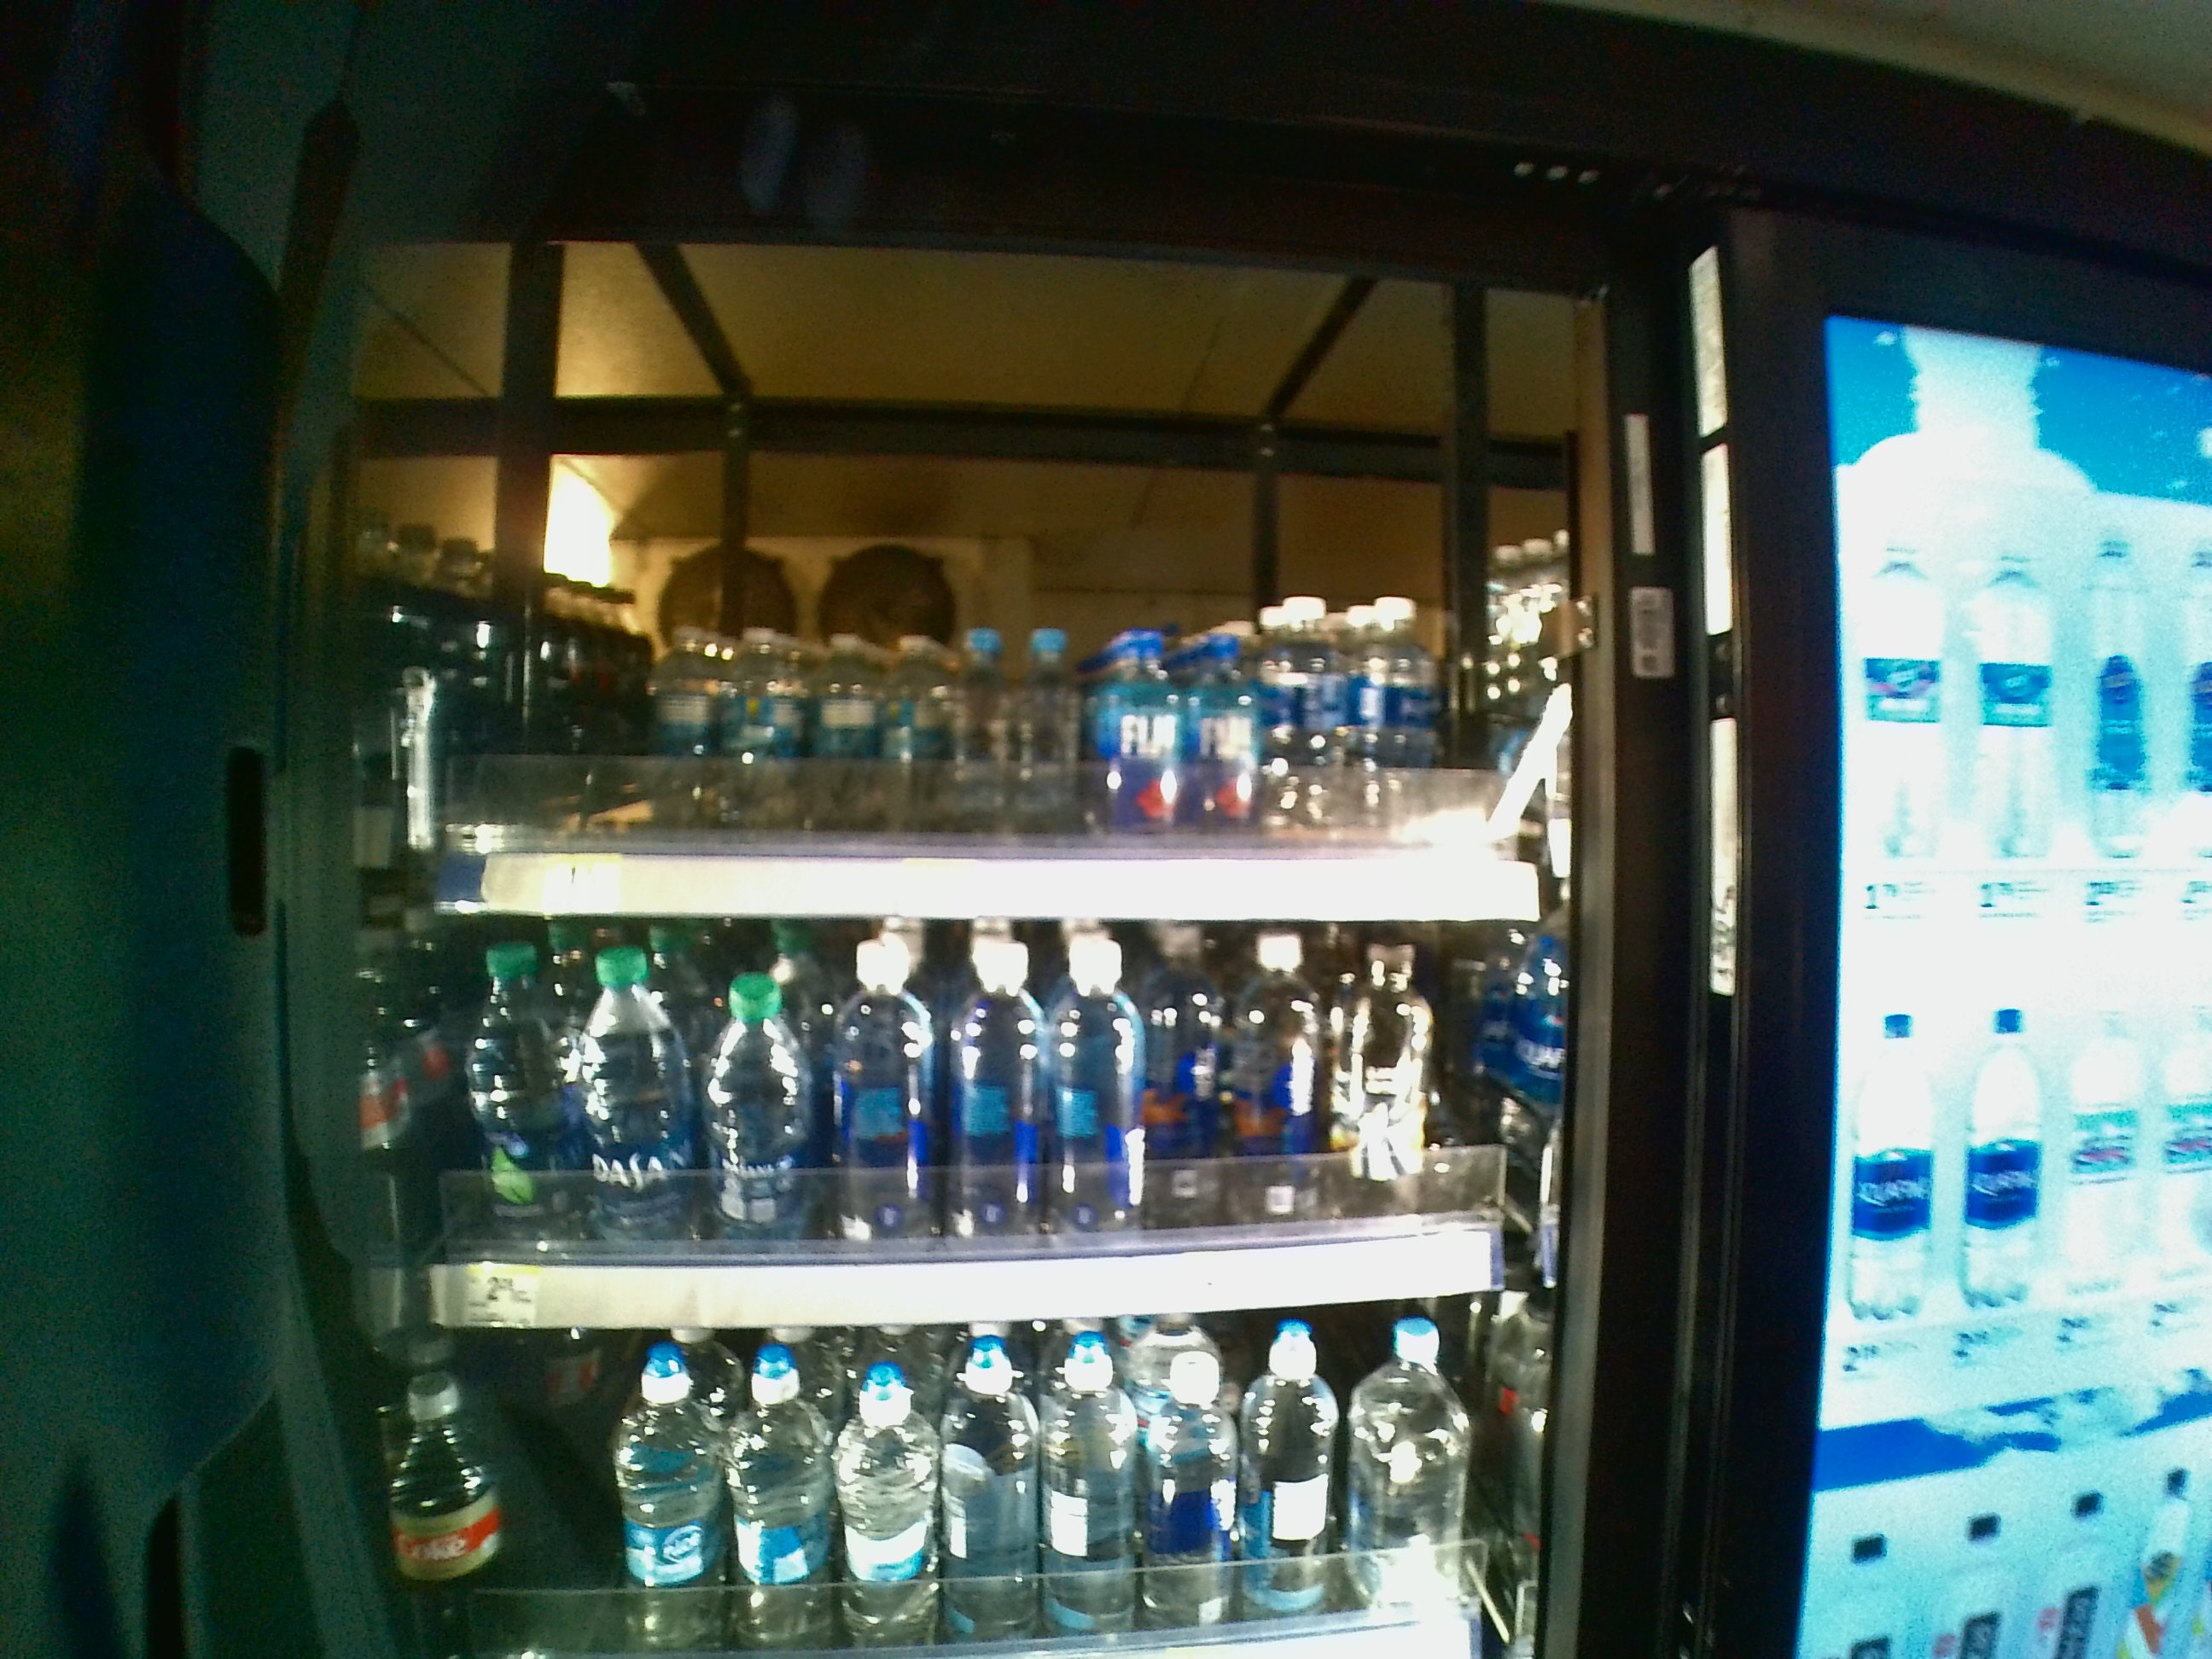shelf: (411, 242, 1569, 924), (411, 922, 1571, 1331)
